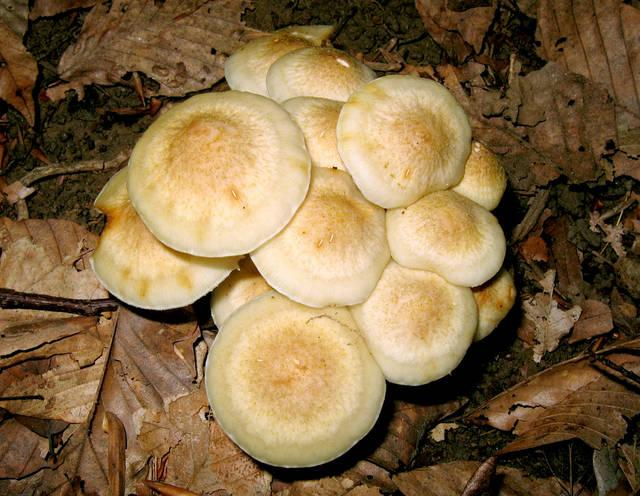Edible Mushroom: (89, 24, 517, 469)
